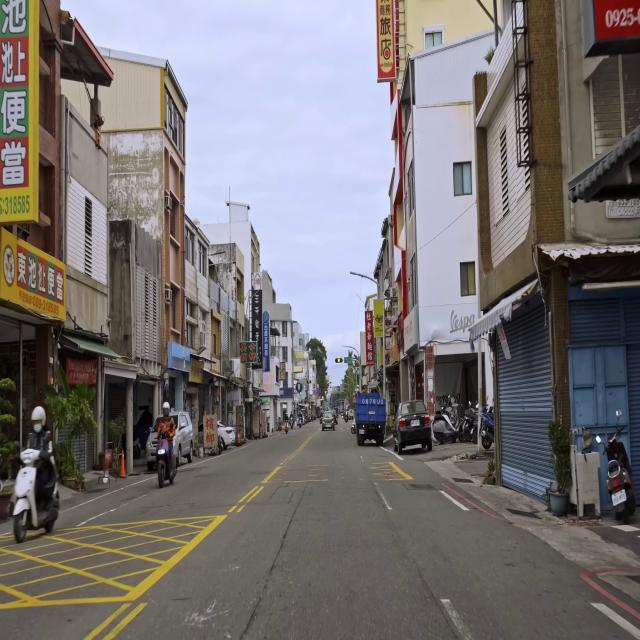yellow light: (335, 357, 343, 363), (306, 380, 312, 383)
